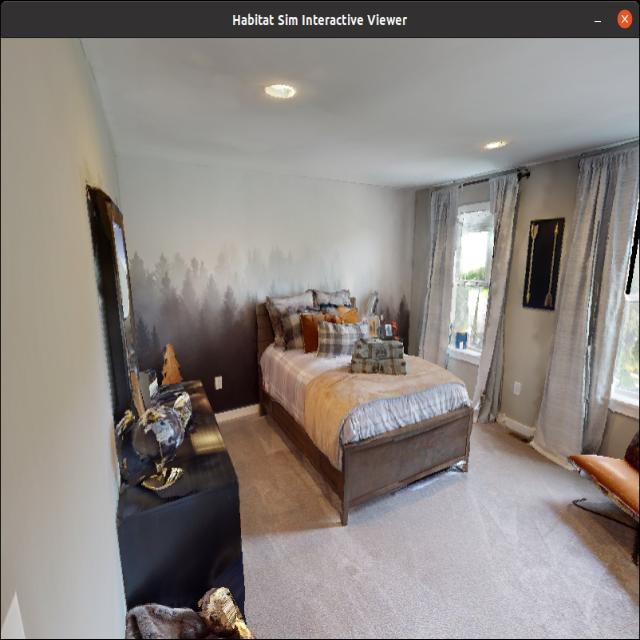bed: (246, 271, 476, 516)
